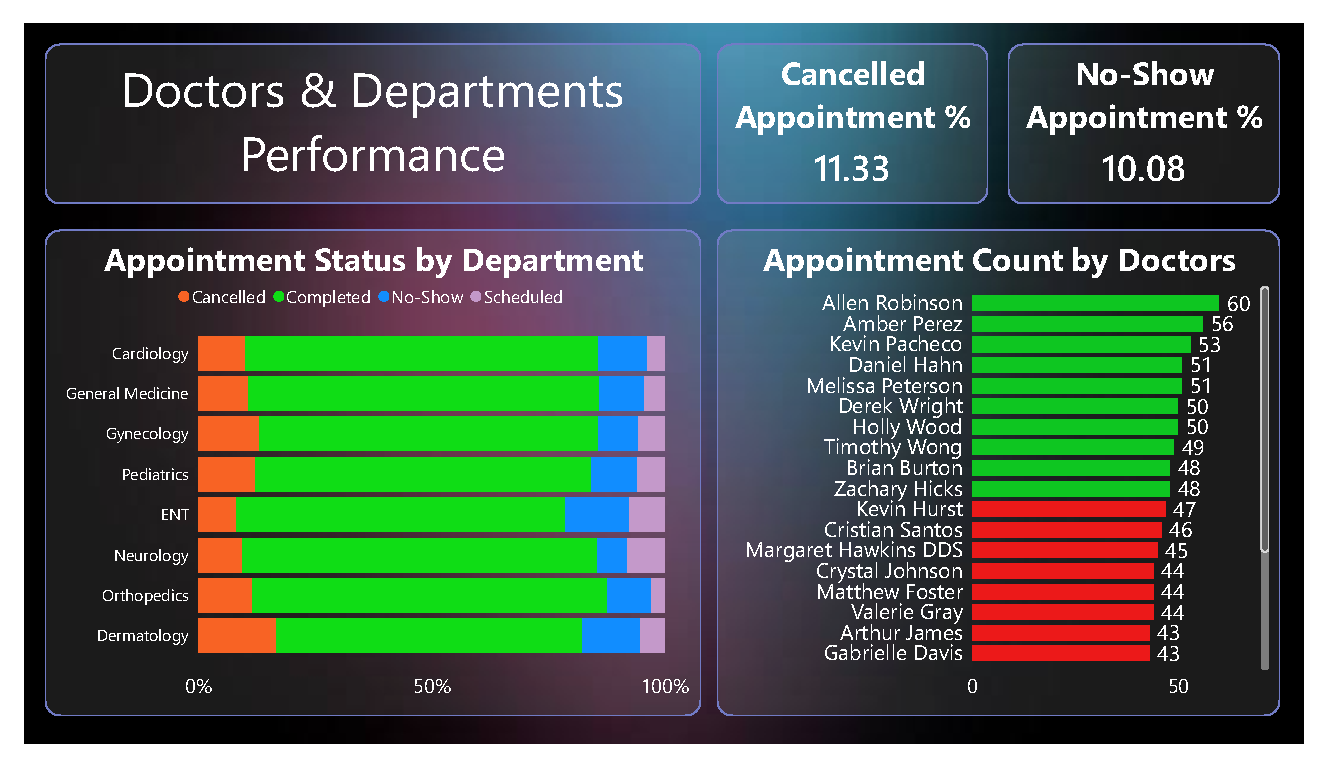

What the dashboard file says about the page in this screenshot:
{"tool":"powerbi","page":{"name":"Doctors & Departments Performance","canvas":[1280,720],"ordinal":2},"visuals":[{"type":"textbox","box":[21.3,19.8,656.2,160.2],"z":0},{"type":"barChart","title":"Appointment Count by Doctors","fields":{"Category":["public doctors.Doctor Name"],"Y":["Count(public appointments.appointment_id)"]},"box":[693.1,205.5,562.7,486.1],"z":1000},{"type":"hundredPercentStackedBarChart","title":"Appointment Status by Department","fields":{"Category":["public departments.department_name"],"Y":["CountNonNull(public appointments.Appointment Status)"],"Series":["public appointments.Appointment Status"]},"box":[21.3,205.5,656.2,486.1],"z":2000},{"type":"cardVisual","title":"Cancelled Appointment % ","fields":{"Data":["Measure Table.Cancelled Appointment %"]},"box":[693.1,19.8,270.7,160.2],"z":3000},{"type":"cardVisual","title":"No-Show Appointment %","fields":{"Data":["Measure Table.No-Show Appointment %"]},"box":[984.4,20.2,272.1,159.6],"z":4000}]}

Visuals, with their boxes in screenshot pixels (x1, y1, x2, y2), scaled from the page's 1280x720 canvas onto the 1328x768 screenshot:
textbox: [left=22, top=21, right=703, bottom=192]
"Appointment Count by Doctors" barChart: [left=719, top=219, right=1303, bottom=738]
"Appointment Status by Department" hundredPercentStackedBarChart: [left=22, top=219, right=703, bottom=738]
"Cancelled Appointment % " cardVisual: [left=719, top=21, right=1000, bottom=192]
"No-Show Appointment %" cardVisual: [left=1021, top=22, right=1304, bottom=192]
